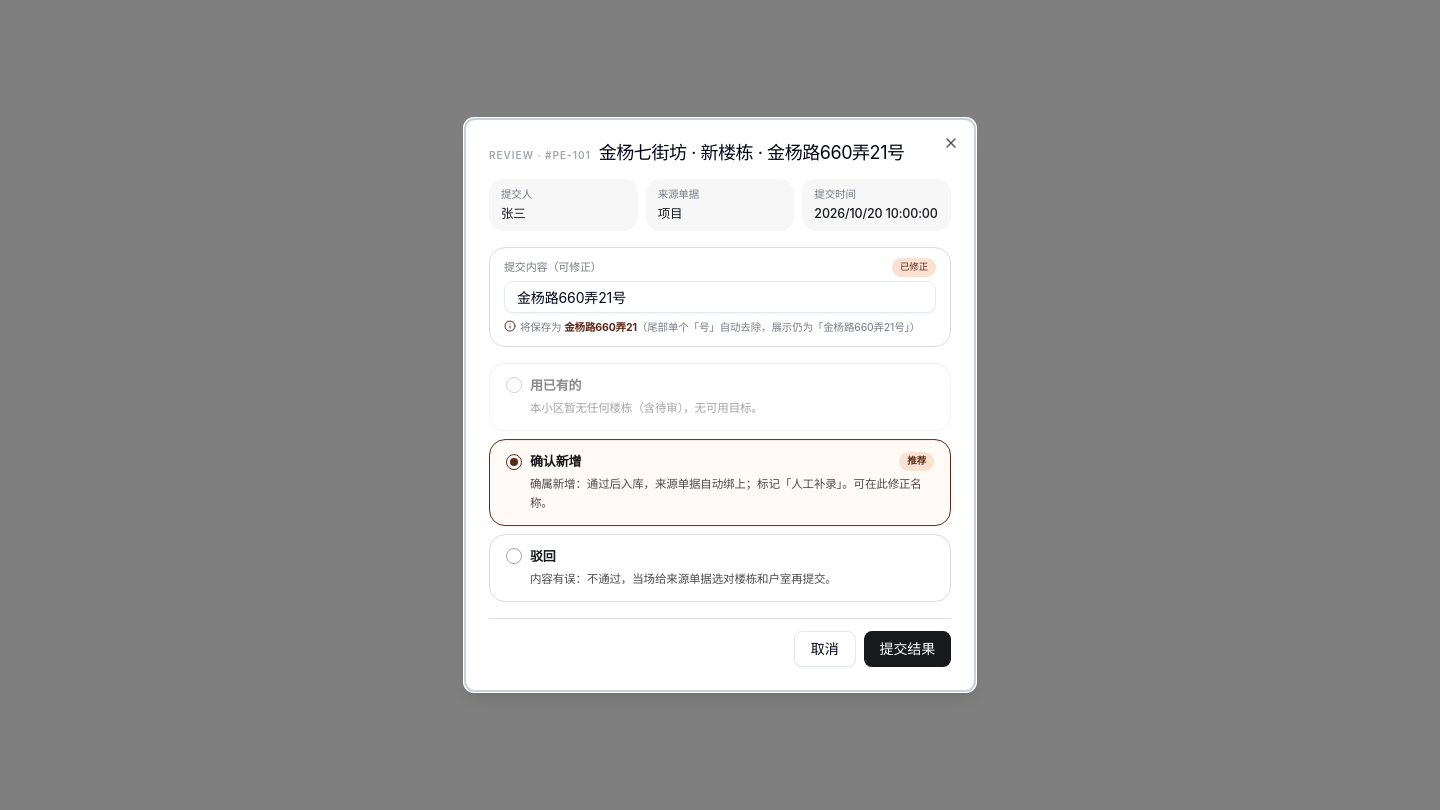
Scenario: ReviewResolveModal · 名称修正（BR-29 场景①） › 默认动作 create 时名称输入可编辑，且展示「将保存为」归一结果
The width and height of the screenshot is (1440, 810).
Replace the text in the field with placeholder "楼栋号，如 21" with "金杨路660弄22号": (720, 297) [504,281,936,313]
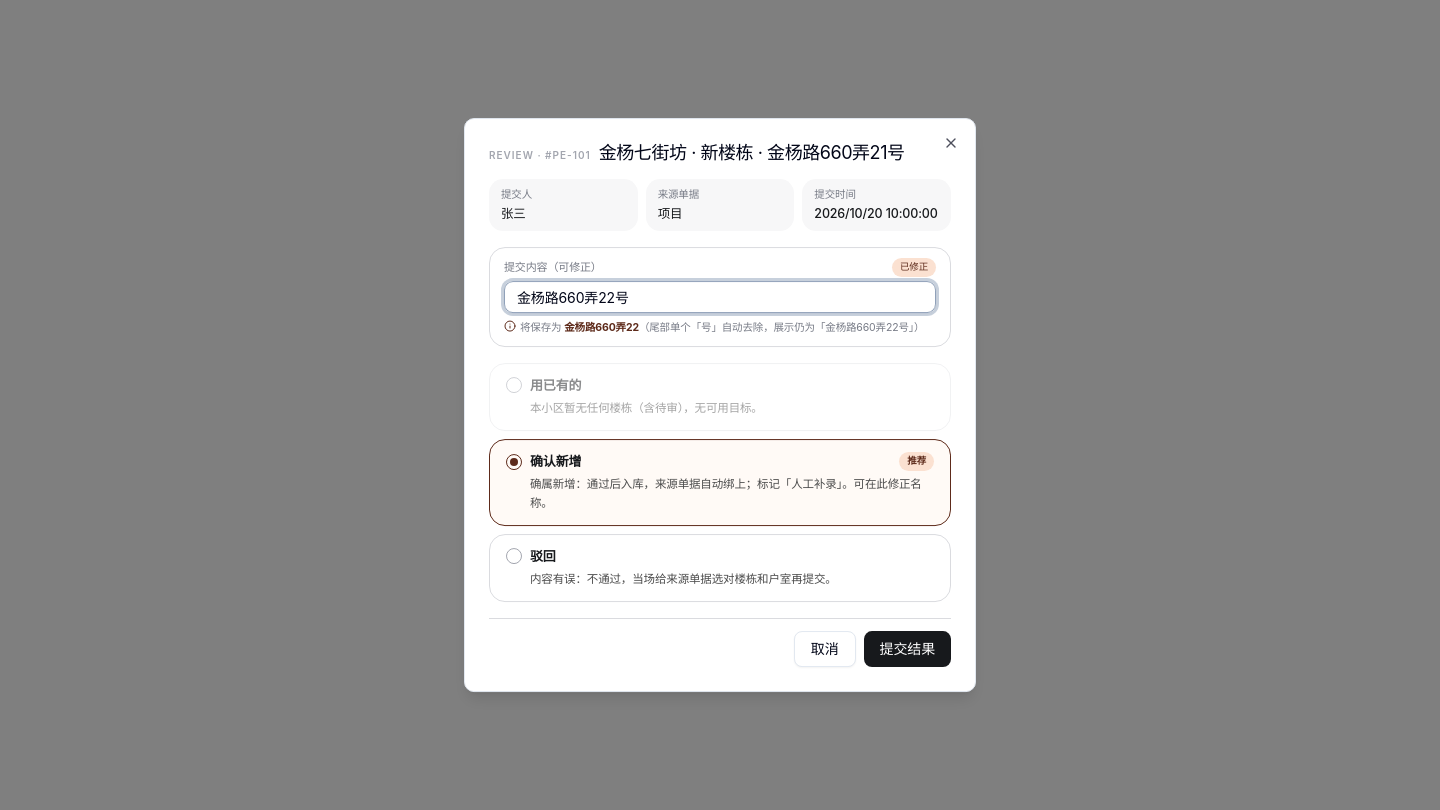
Expected: the text "将保存为 金杨路660弄22（尾部单个「号」自动去除，展示仍为「金杨路660弄22号」）" is shown, [520,319,924,336]
Now the text "金杨路660弄22" is shown, box [564,321,639,334]
